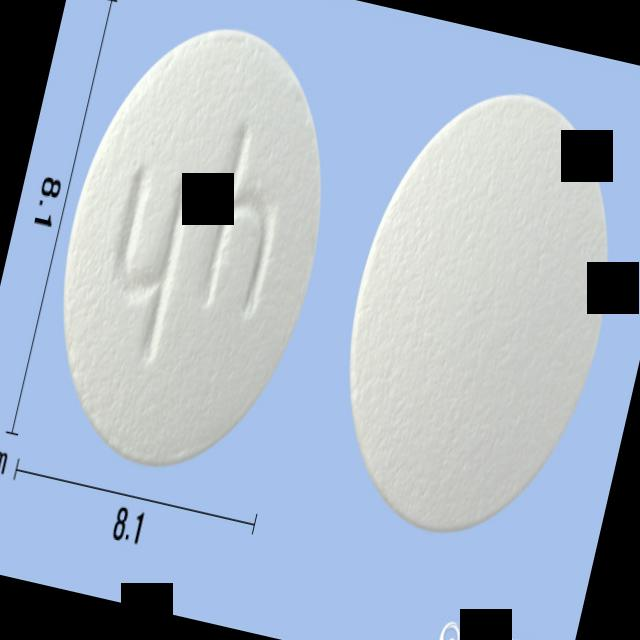Levomicin: (23, 1, 364, 492)
